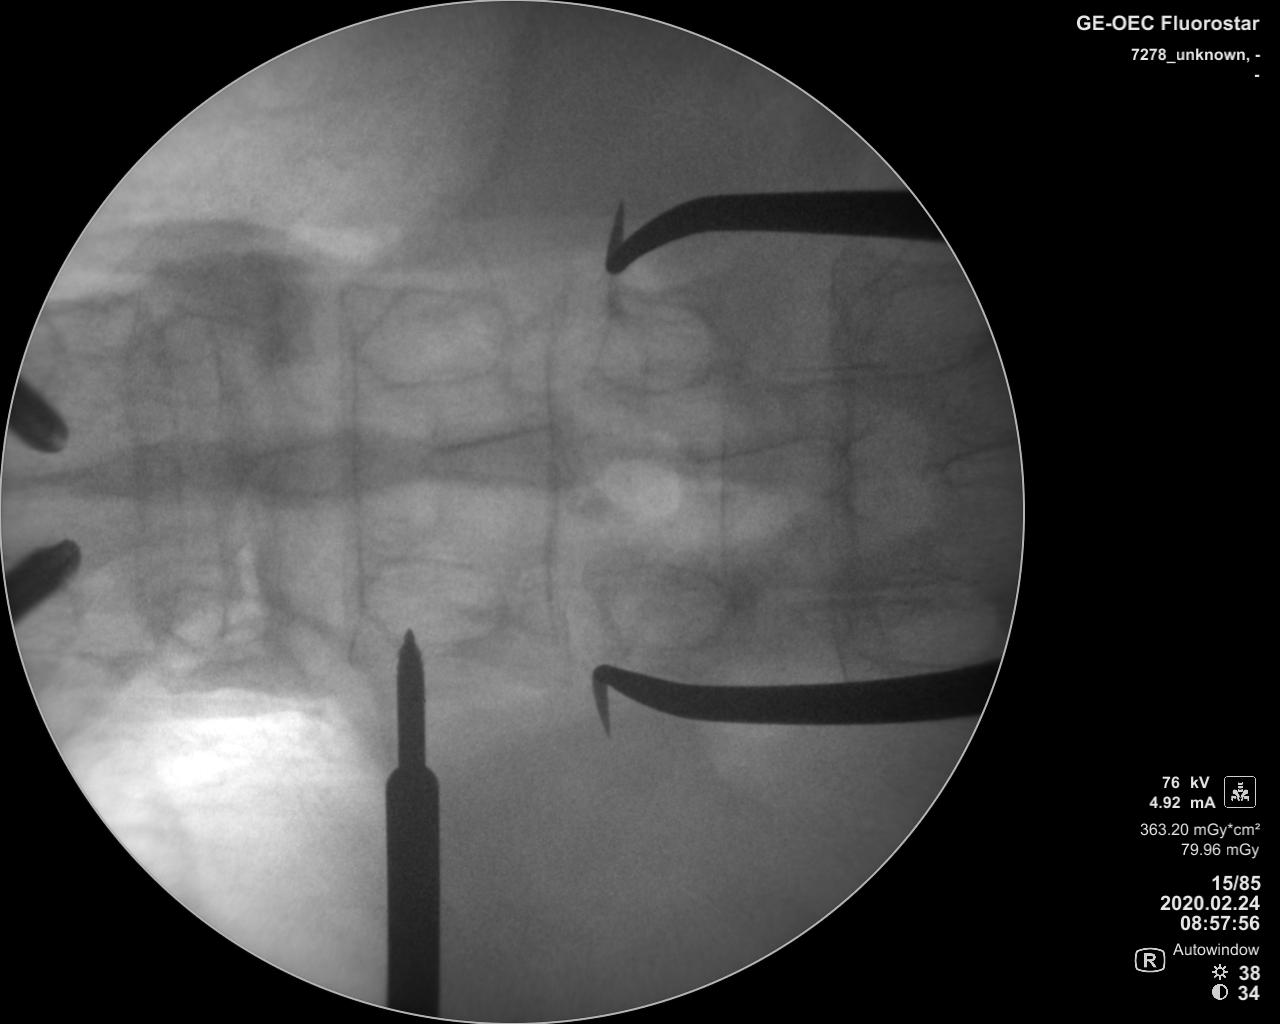eyes: (364, 283, 513, 383), (362, 552, 510, 648), (590, 290, 721, 395), (143, 307, 277, 405), (594, 563, 737, 645), (164, 588, 292, 655)
line: (112, 281, 183, 659), (330, 275, 375, 676), (536, 273, 572, 664)
nose: (408, 420, 588, 491), (681, 426, 850, 501), (39, 453, 243, 502), (240, 432, 351, 501)
